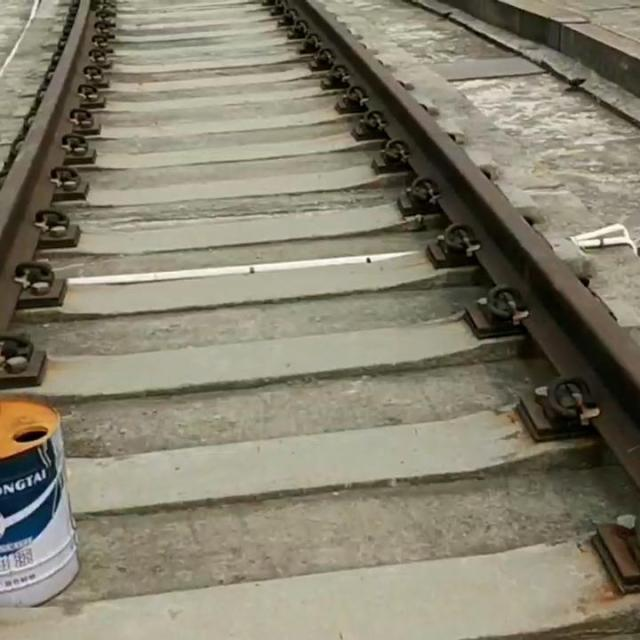rail: (291, 1, 640, 489), (2, 1, 94, 333)
